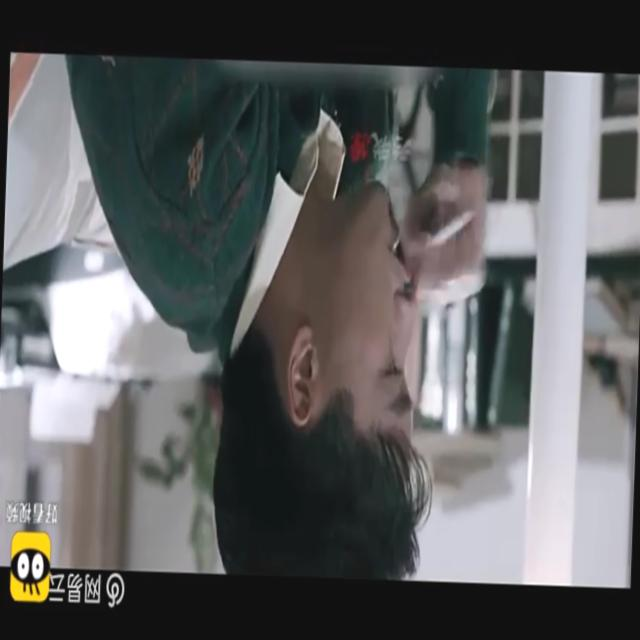smoke: (413, 204, 473, 256)
